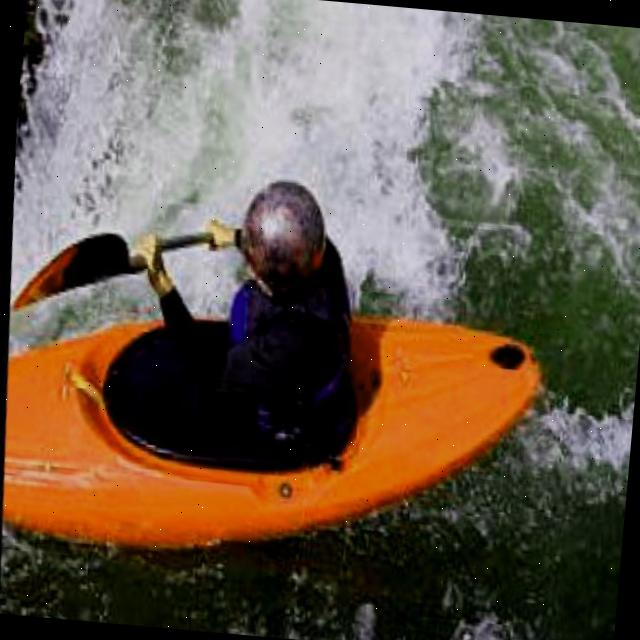kayak: (0, 312, 534, 542)
